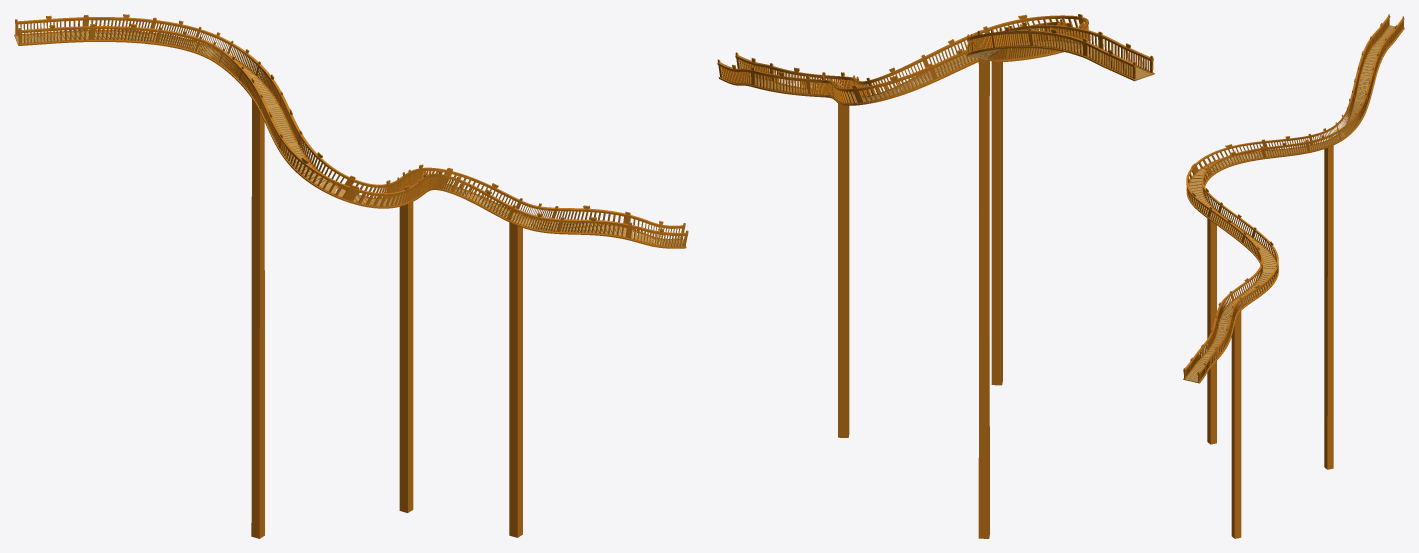
File: PontGROS.fbx
The picture shows the model from 3 angles, left to right: view 1: azimuth 30°, elevation 25°; view 2: azimuth 150°, elevation 25°; view 3: azimuth 270°, elevation 25°; orthographic projection. The views are drawn at different scales.
Visible parts, largest first — view 1: PontGROS_LOD0; view 2: PontGROS_LOD0; view 3: PontGROS_LOD0.
Part boxes in pixels (x1,y1,x2,y2): PontGROS_LOD0: (14, 14, 688, 538); PontGROS_LOD0: (717, 14, 1154, 538); PontGROS_LOD0: (1183, 14, 1404, 538).
Bounding box in the file's own units: 12648 × 11855 × 6202.
